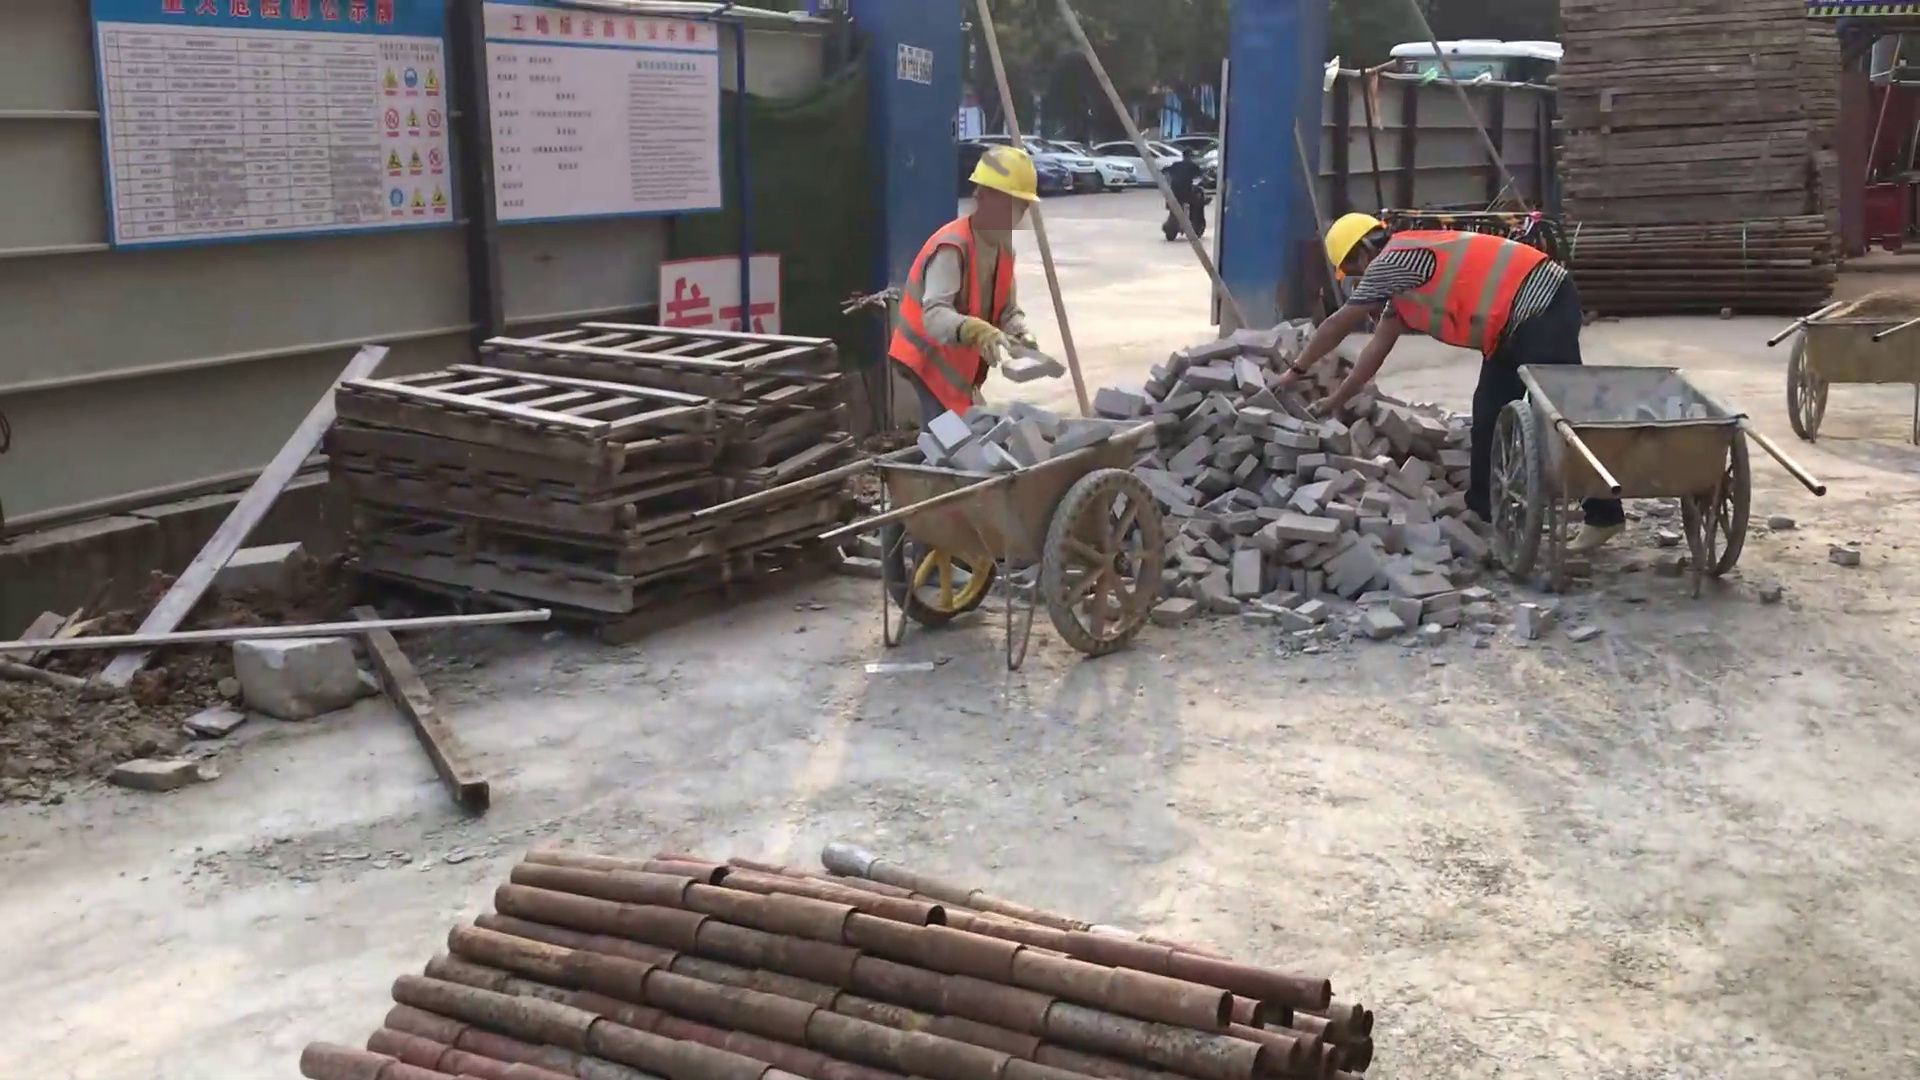handcart: (690, 411, 1168, 675), (1485, 358, 1828, 583), (1762, 299, 1920, 454)
helmet: (962, 140, 1045, 211), (1322, 209, 1390, 280)
person: (1255, 207, 1630, 562), (880, 140, 1043, 420)
scaffold: (295, 836, 1376, 1080), (1572, 213, 1845, 312)
slogan: (95, 1, 728, 253), (658, 250, 785, 341)
vest: (883, 211, 1018, 415), (1390, 229, 1549, 355)
wood: (1548, 1, 1845, 209)
